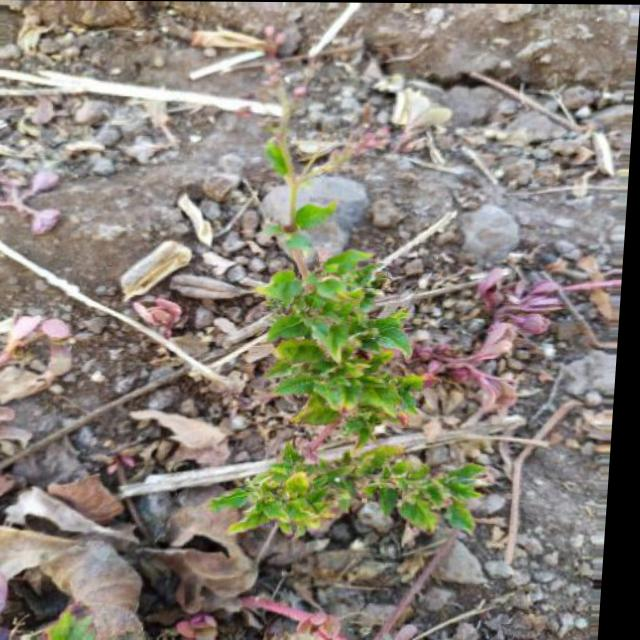weed: (212, 119, 521, 558)
